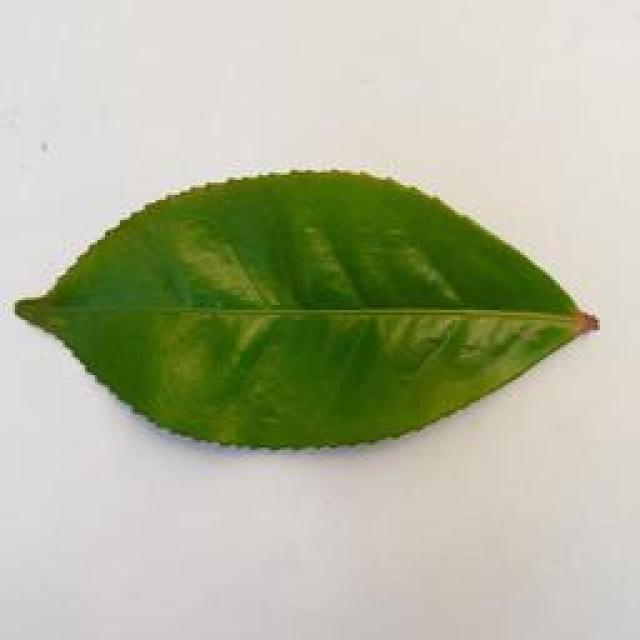Healthy: (18, 164, 620, 449)
